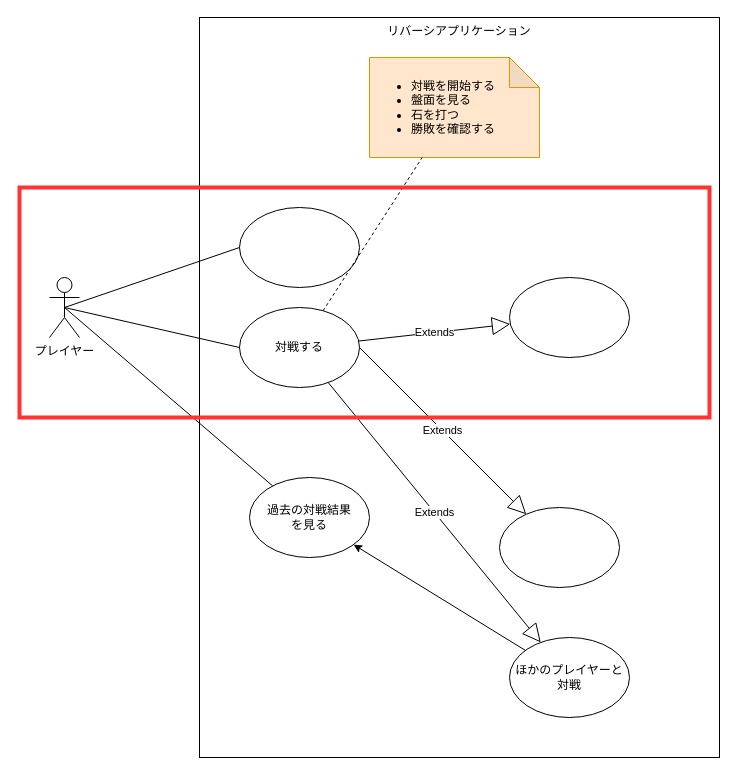
The diagram is 737 pixels wide and 775 high, and some of its shapes have lost their labels. Each missing label, with the centre of its shape:
コンピュータと 対戦: [559,547]
会員登録 ログイン: [299,247]
１人で白黒打つ: [569,317]
